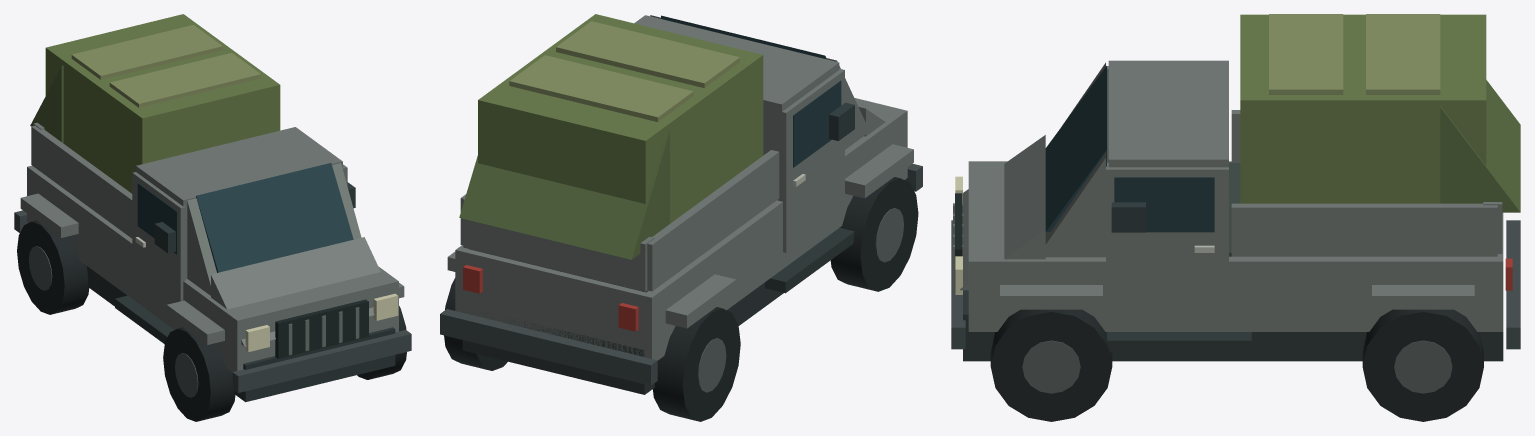
The model's file is CMU3DReduxAU14VehicleCivGarbageTruck.glb.
3 renders of one model, left to right at view 1: azimuth 30°, elevation 25°; view 2: azimuth 150°, elevation 25°; view 3: azimuth 270°, elevation 25°, orthographic. The views are drawn at different scales.
Visible parts, largest first — view 1: refuse compactor, lower vehicle body, windshield, rubber road tire (×3), compactor access panel (×2), cab bulkhead, front hood, bed side wall, cab door skin, bumper, sealed chassis, front grille (+8 smaller); view 2: refuse compactor, lower vehicle body, rubber road tire (×3), compactor access panel (×2), sloped refuse hopper, bed side wall, cab door skin, bumper, tailgate, cab bulkhead, wheel fender (×2), sealed chassis (+7 smaller); view 3: refuse compactor, lower vehicle body, rubber road tire (×2), bed side wall (×2), cab bulkhead, cab door skin, compactor access panel (×2), sloped refuse hopper, sealed chassis, windshield, front hood, wheel fender (×2) (+8 smaller).
Boxes of the visible parts, <box> form: refuse compactor: <box>45,14,280,193</box>; lower vehicle body: <box>27,165,398,372</box>; windshield: <box>196,163,353,272</box>; rubber road tire (×3): <box>17,220,406,421</box>; compactor access panel (×2): <box>71,25,260,107</box>; cab bulkhead: <box>136,127,342,279</box>; front hood: <box>211,237,380,346</box>; bed side wall: <box>31,125,132,238</box>; cab door skin: <box>132,172,185,312</box>; bumper: <box>232,330,411,392</box>; sealed chassis: <box>87,266,395,402</box>; front grille: <box>275,299,368,358</box>; refuse compactor: <box>478,14,763,223</box>; lower vehicle body: <box>455,98,907,360</box>; rubber road tire (×3): <box>444,177,918,421</box>; compactor access panel (×2): <box>509,21,739,121</box>; sloped refuse hopper: <box>459,130,669,259</box>; bed side wall: <box>647,150,779,291</box>; cab door skin: <box>780,68,844,252</box>; bumper: <box>440,309,657,385</box>; tailgate: <box>463,199,654,291</box>; cab bulkhead: <box>634,15,839,200</box>; wheel fender (×2): <box>665,144,913,328</box>; sealed chassis: <box>462,282,783,394</box>; refuse compactor: <box>1240,14,1486,203</box>; lower vehicle body: <box>968,161,1503,331</box>; rubber road tire (×2): <box>990,309,1483,421</box>; bed side wall (×2): <box>1231,110,1497,256</box>; cab bulkhead: <box>1108,60,1228,167</box>; cab door skin: <box>1106,166,1228,315</box>; compactor access panel (×2): <box>1269,14,1440,94</box>; sloped refuse hopper: <box>1440,80,1520,212</box>; sealed chassis: <box>963,290,1503,361</box>; windshield: <box>1045,66,1106,231</box>; front hood: <box>960,135,1045,290</box>; wheel fender (×2): <box>1000,285,1474,309</box>.
Size of the model in its own units: 1.35 by 1.58 by 2.64.
